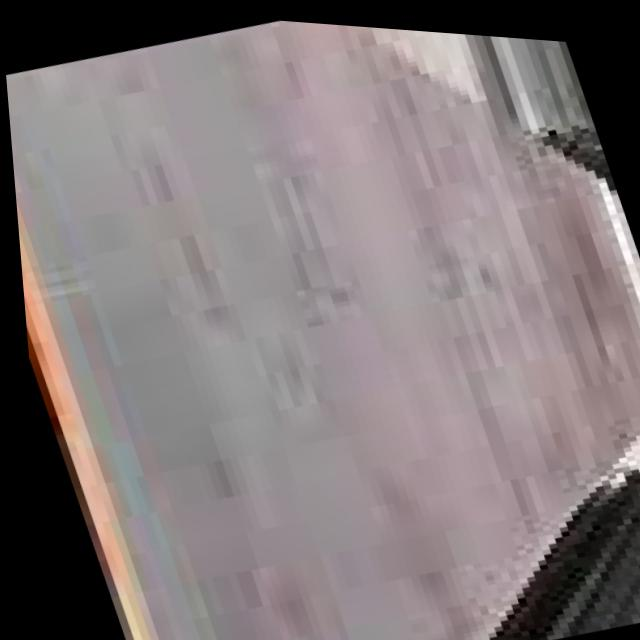metal-plates: (6, 17, 640, 640)
